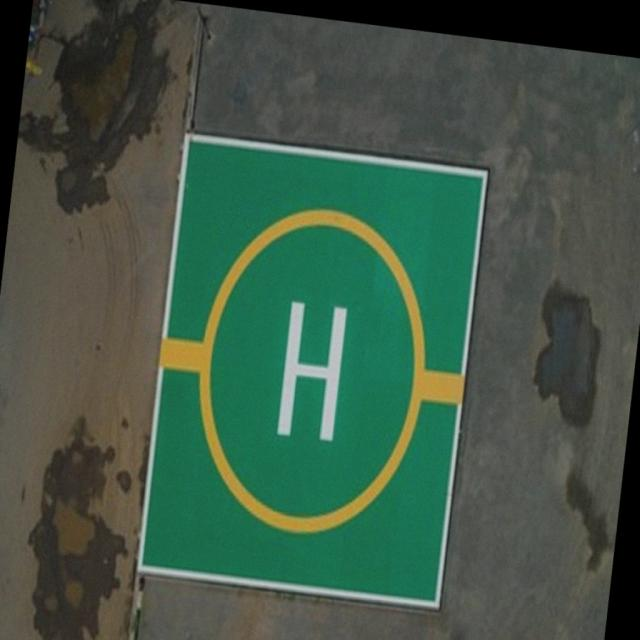helipad: (197, 205, 429, 535)
